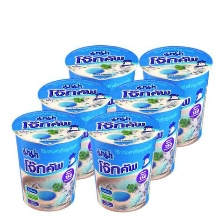paper_cup: (33, 73, 116, 182), (134, 40, 215, 150), (107, 75, 189, 183), (7, 106, 88, 214), (82, 106, 162, 214), (61, 39, 143, 95)
